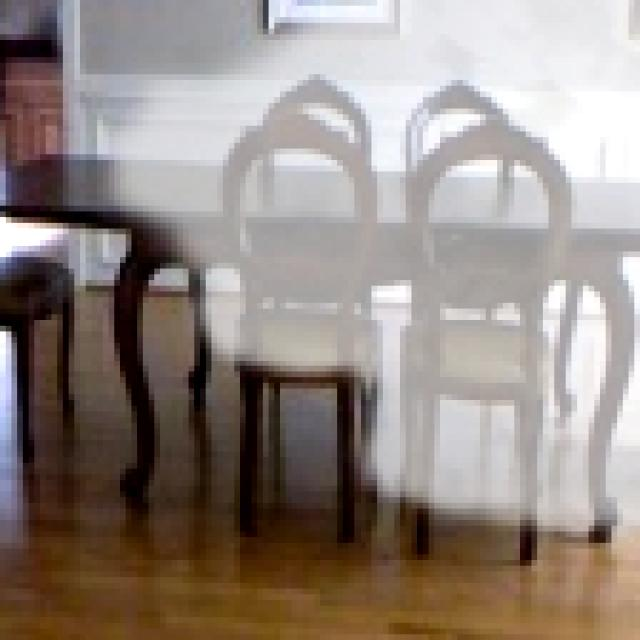smoke: (74, 0, 640, 549)
